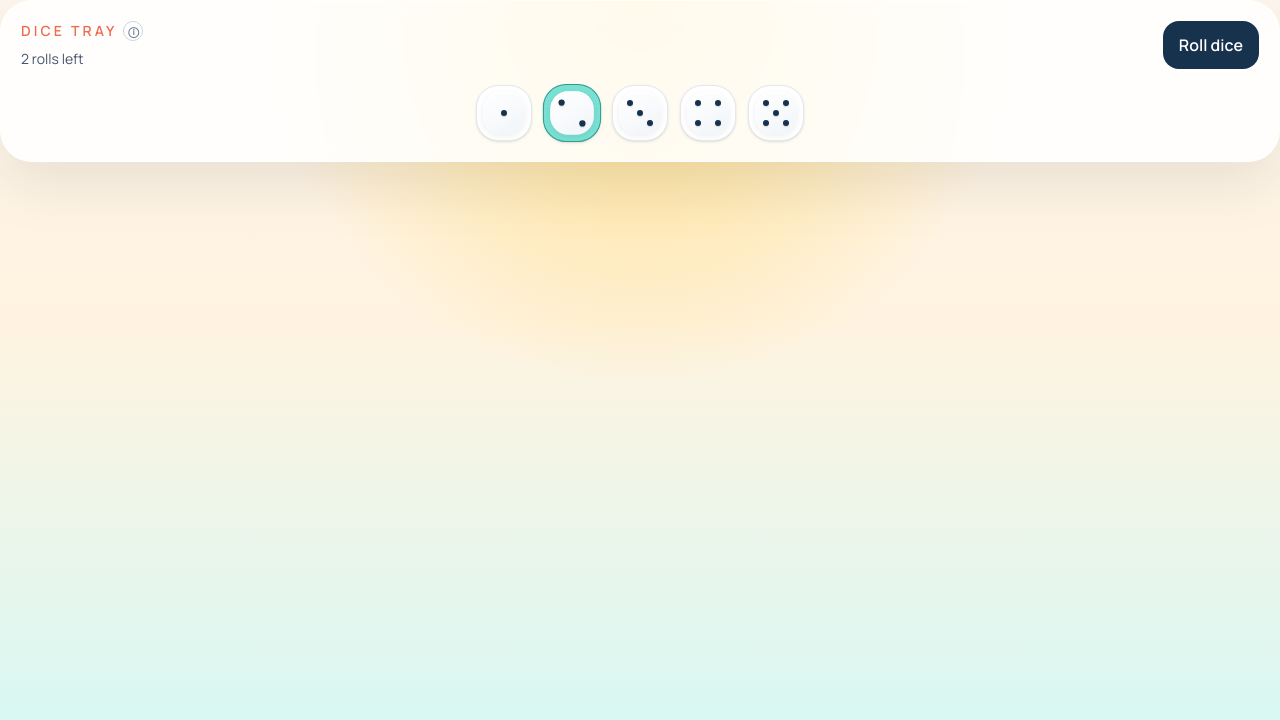
Test: DiceTray › shows turn help without rolling or holding
Click the button named "About the dice tray" at [134, 31], box x1=124 y1=21 x2=144 y2=41
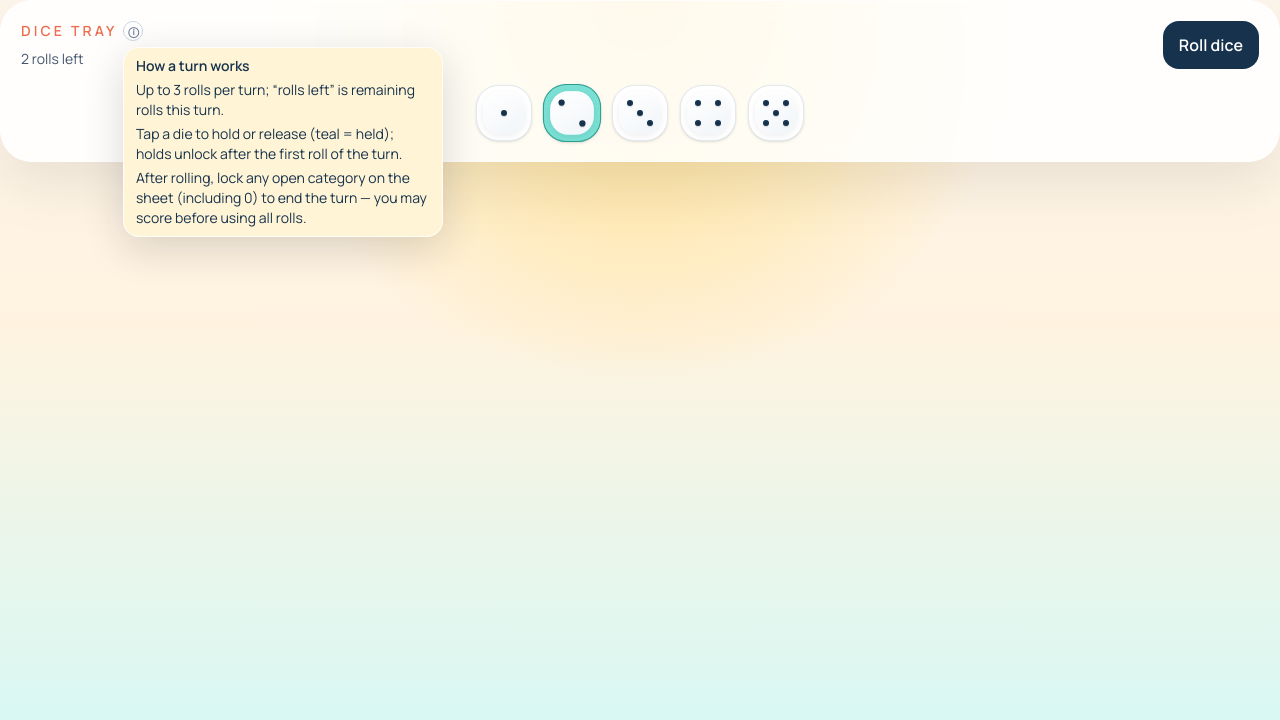
Result: the text "How a turn works" is shown at x1=136 y1=56 x2=250 y2=75
Result: the text "Up to 3 rolls per turn; “rolls left” is remaining rolls this turn." is shown at x1=136 y1=80 x2=430 y2=120
